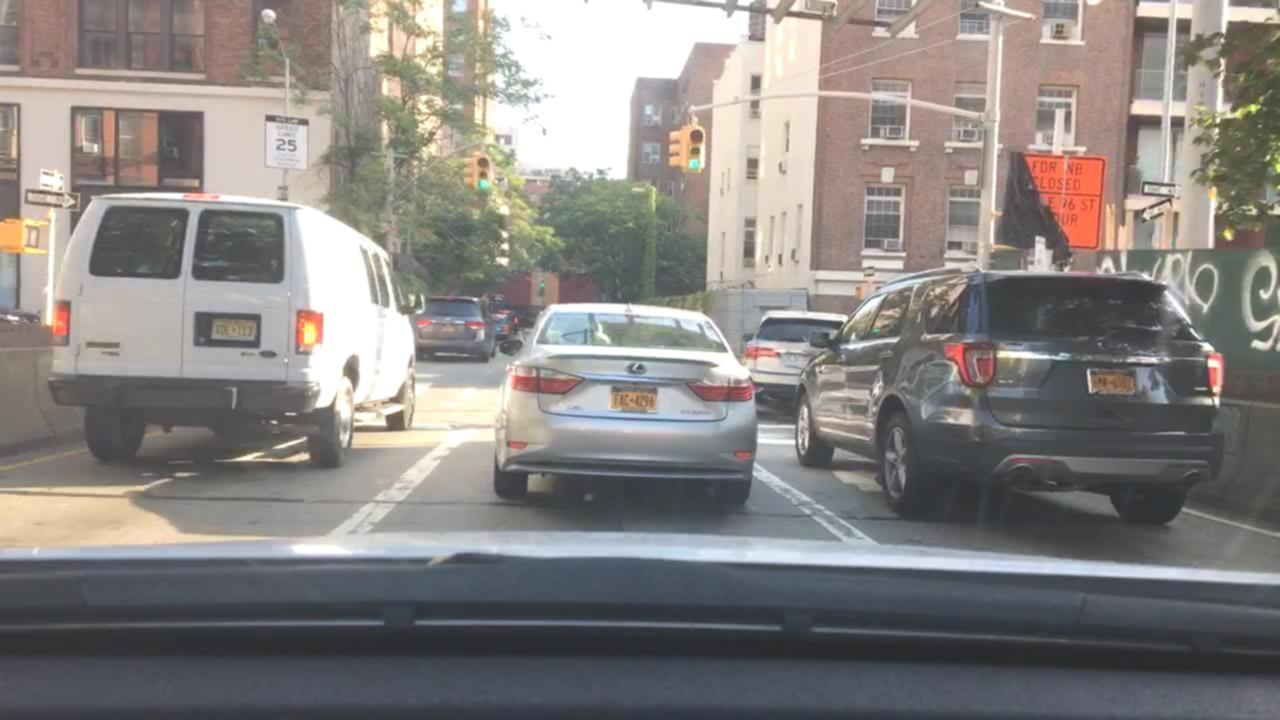lexus: (626, 357, 649, 383)
